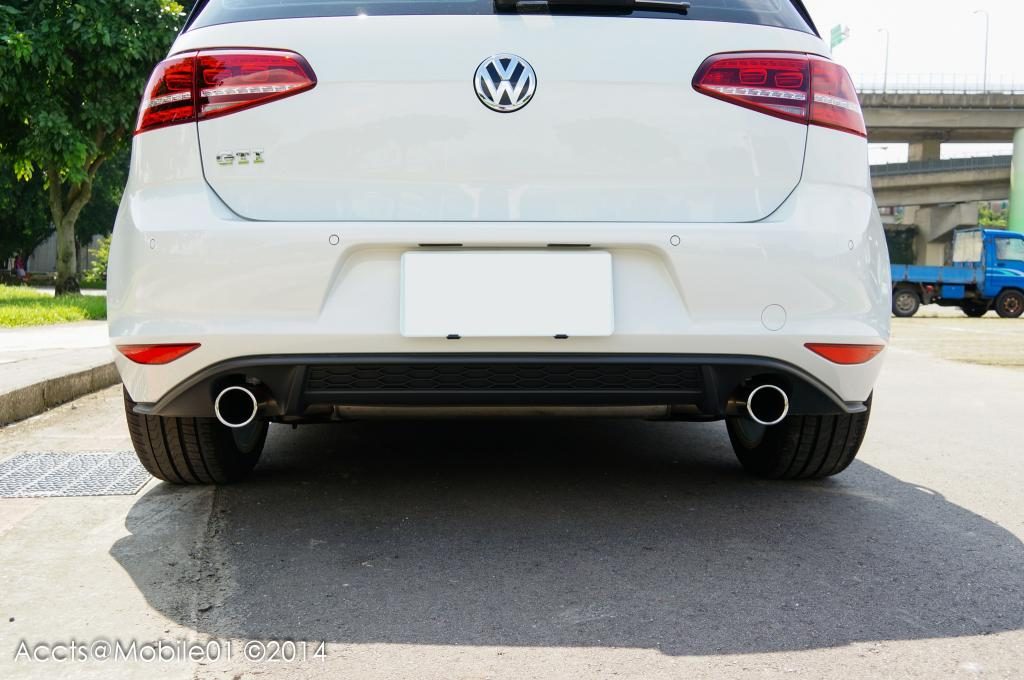front_view: (2, 47, 135, 120)
headlight: (76, 58, 136, 82)
side_glass: (164, 10, 205, 41)
